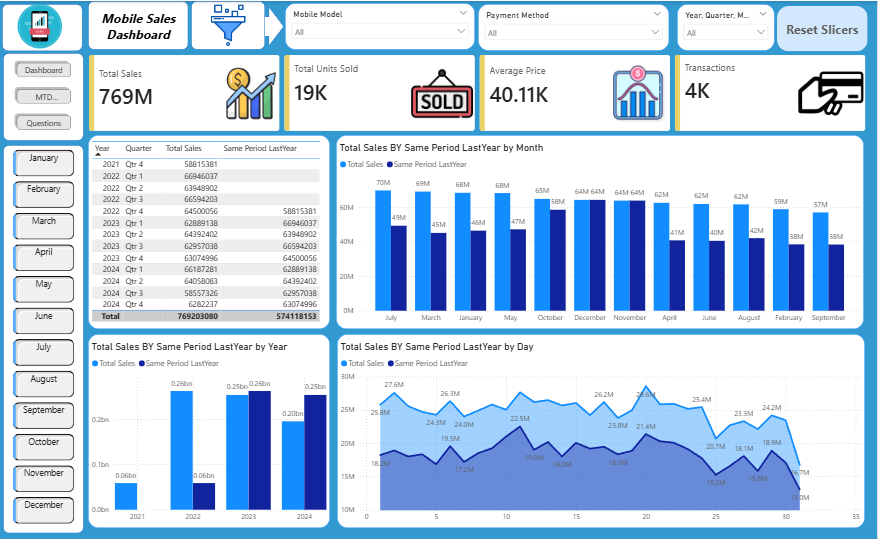

Layout of this report page (visuals, bound fields, positions):
{"tool":"powerbi","page":{"name":"Same Period LastYear","canvas":[1500,920],"ordinal":2},"visuals":[{"type":"shape","box":[2.9,4.4,137.8,80.6],"z":0},{"type":"shape","box":[4.5,89.5,138,150.1],"z":2000},{"type":"cardVisual","fields":{"Data":["SalesData.Total Sales","SalesData.TotalUnitsSold","SalesData.Average Price","SalesData.Transactions"]},"box":[135.7,75.7,1364.3,164.3],"z":3000},{"type":"slicer","fields":{"Values":["SalesData.Mobile Model"]},"box":[486.7,3.3,325,80],"z":4000},{"type":"shape","box":[433.3,8.3,53.3,70],"z":5000},{"type":"slicer","fields":{"Values":["Calender.Date.Variation.Date Hierarchy.Year","Calender.Date.Variation.Date Hierarchy.Quarter","Calender.Date.Variation.Date Hierarchy.Month","Calender.Date.Variation.Date Hierarchy.Day"]},"box":[1157.9,5.1,167,80.4],"z":6000},{"type":"slicer","fields":{"Values":["SalesData.Payment Method"]},"box":[818.3,5,326.7,80],"z":7000},{"type":"shape","box":[326.7,0,126.7,83.3],"z":8000},{"type":"image","box":[343.3,5,93.3,73.3],"z":9000},{"type":"shape","box":[150,0,171.7,83.3],"z":10000},{"type":"shape","box":[4.5,245.7,138,664.3],"z":11000},{"type":"advancedSlicerVisual","fields":{"Values":["Calender.Date.Variation.Date Hierarchy.Month"]},"box":[17,230,115,690],"z":12000},{"type":"tableEx","fields":{"Values":["Calender.Date.Variation.Date Hierarchy.Year","Calender.Date.Variation.Date Hierarchy.Quarter","SalesData.Total Sales","SalesData.Same Period LastYear"]},"box":[150.5,229.2,413.9,331.8],"z":13000},{"type":"clusteredColumnChart","title":"Total Sales BY Same Period LastYear by Year","fields":{"Category":["Calender.Date.Variation.Date Hierarchy.Year","Calender.Date.Variation.Date Hierarchy.Quarter","Calender.Date.Variation.Date Hierarchy.Month"],"Y":["SalesData.Total Sales","SalesData.Same Period LastYear"]},"box":[150.9,569,413.8,331.9],"z":14000},{"type":"areaChart","title":"Total Sales BY Same Period LastYear by Day","fields":{"Category":["Calender.Date.Variation.Date Hierarchy.Year","Calender.Date.Variation.Date Hierarchy.Quarter","Calender.Date.Variation.Date Hierarchy.Month","Calender.Date.Variation.Date Hierarchy.Day"],"Y":["SalesData.Total Sales","SalesData.Same Period LastYear"]},"box":[576.4,569.6,903.1,331.8],"z":15000},{"type":"clusteredColumnChart","title":"Total Sales BY Same Period LastYear by Month","fields":{"Category":["Calender.Date.Variation.Date Hierarchy.Year","Calender.Date.Variation.Date Hierarchy.Quarter","Calender.Date.Variation.Date Hierarchy.Month"],"Y":["SalesData.Total Sales","SalesData.Same Period LastYear"]},"box":[575.4,228.4,903,331.9],"z":16000},{"type":"actionButton","box":[1329.7,8.6,155.2,77.6],"z":17000},{"type":"pageNavigator","box":[20,97.3,109.1,133.6],"z":18000},{"type":"image","box":[17,5.7,102,75.6],"z":18001}]}

Visuals, with their boxes on the page's 1500x920 design canvas (x1, y1, x2, y2). These are canvas units, not pixel positions in the 878x539 screenshot, which may show the page scaled, cropped or inside an application window:
shape: [left=3, top=4, right=141, bottom=85]
shape: [left=4, top=90, right=142, bottom=240]
cardVisual - SalesData.Total Sales x SalesData.TotalUnitsSold: [left=136, top=76, right=1500, bottom=240]
slicer - SalesData.Mobile Model: [left=487, top=3, right=812, bottom=83]
shape: [left=433, top=8, right=487, bottom=78]
slicer - Calender.Date.Variation.Date Hierarchy.Year x Calender.Date.Variation.Date Hierarchy.Quarter: [left=1158, top=5, right=1325, bottom=86]
slicer - SalesData.Payment Method: [left=818, top=5, right=1145, bottom=85]
shape: [left=327, top=0, right=453, bottom=83]
image: [left=343, top=5, right=437, bottom=78]
shape: [left=150, top=0, right=322, bottom=83]
shape: [left=4, top=246, right=142, bottom=910]
advancedSlicerVisual - Calender.Date.Variation.Date Hierarchy.Month: [left=17, top=230, right=132, bottom=920]
tableEx - Calender.Date.Variation.Date Hierarchy.Year x Calender.Date.Variation.Date Hierarchy.Quarter: [left=150, top=229, right=564, bottom=561]
"Total Sales BY Same Period LastYear by Year" clusteredColumnChart: [left=151, top=569, right=565, bottom=901]
"Total Sales BY Same Period LastYear by Day" areaChart: [left=576, top=570, right=1480, bottom=901]
"Total Sales BY Same Period LastYear by Month" clusteredColumnChart: [left=575, top=228, right=1478, bottom=560]
actionButton: [left=1330, top=9, right=1485, bottom=86]
pageNavigator: [left=20, top=97, right=129, bottom=231]
image: [left=17, top=6, right=119, bottom=81]
